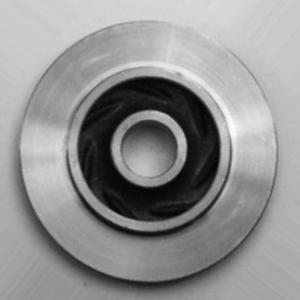unpolished_casting: (17, 21, 279, 287)
